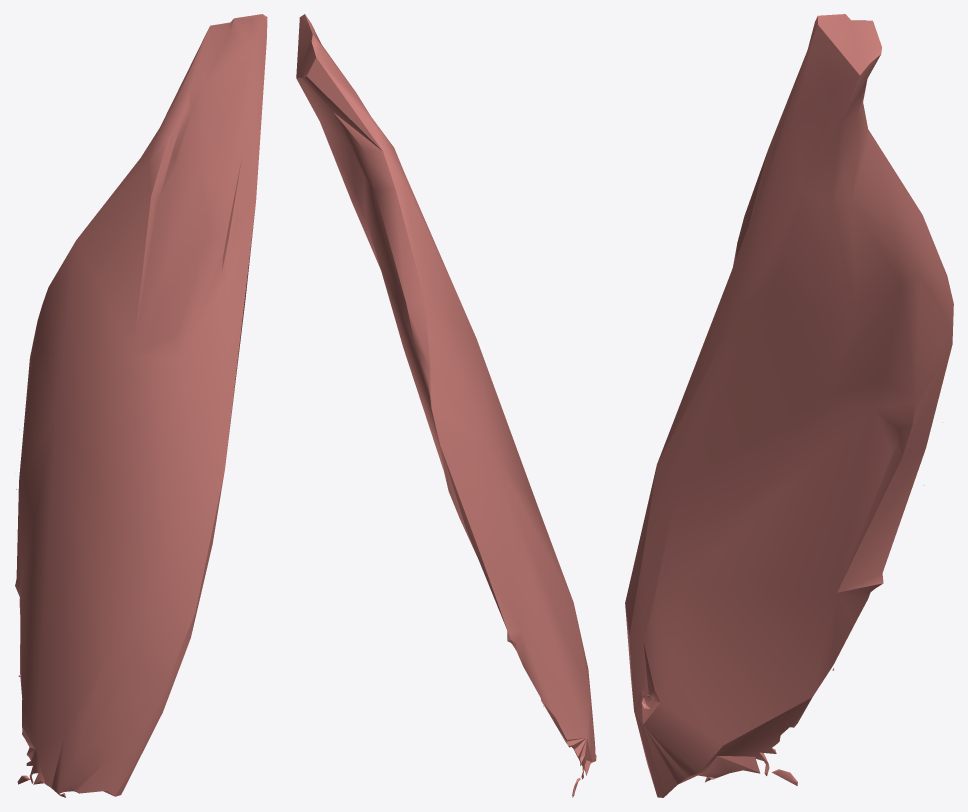
File: fma37401_fj1482m.glb
3 views of the same model, side by side, from view 1: azimuth 30°, elevation 25°; view 2: azimuth 150°, elevation 25°; view 3: azimuth 270°, elevation 25° (orthographic). The views are drawn at different scales.
Visible parts, largest first — view 1: FMA37401_FJ1482M; view 2: FMA37401_FJ1482M; view 3: FMA37401_FJ1482M.
Boxes of the visible parts, x1,y1,x2,y2 form: FMA37401_FJ1482M: (15,14,267,797); FMA37401_FJ1482M: (296,14,596,797); FMA37401_FJ1482M: (625,14,953,797).
Size of the model in its own units: 0.018 by 0.0468 by 0.0149.
